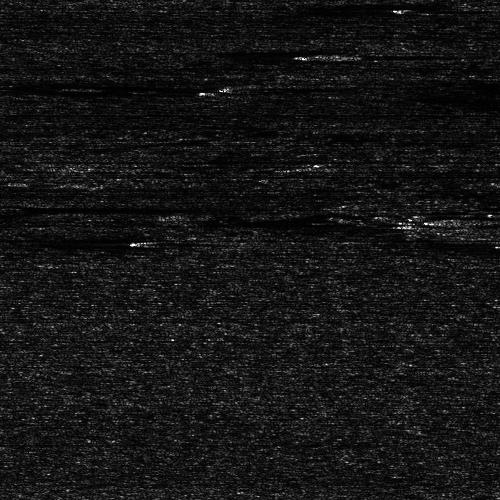rock: (392, 213, 500, 226), (211, 79, 242, 92), (303, 52, 356, 57), (119, 240, 172, 243), (0, 201, 14, 212), (488, 242, 500, 245)
shadow: (0, 201, 193, 212), (227, 79, 288, 92), (330, 52, 452, 57), (471, 213, 500, 226), (146, 240, 209, 243)
